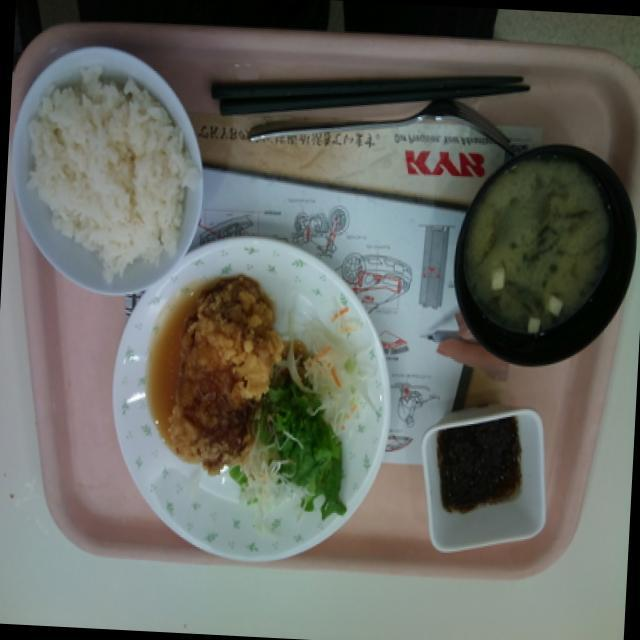Rice: (25, 80, 188, 274)
